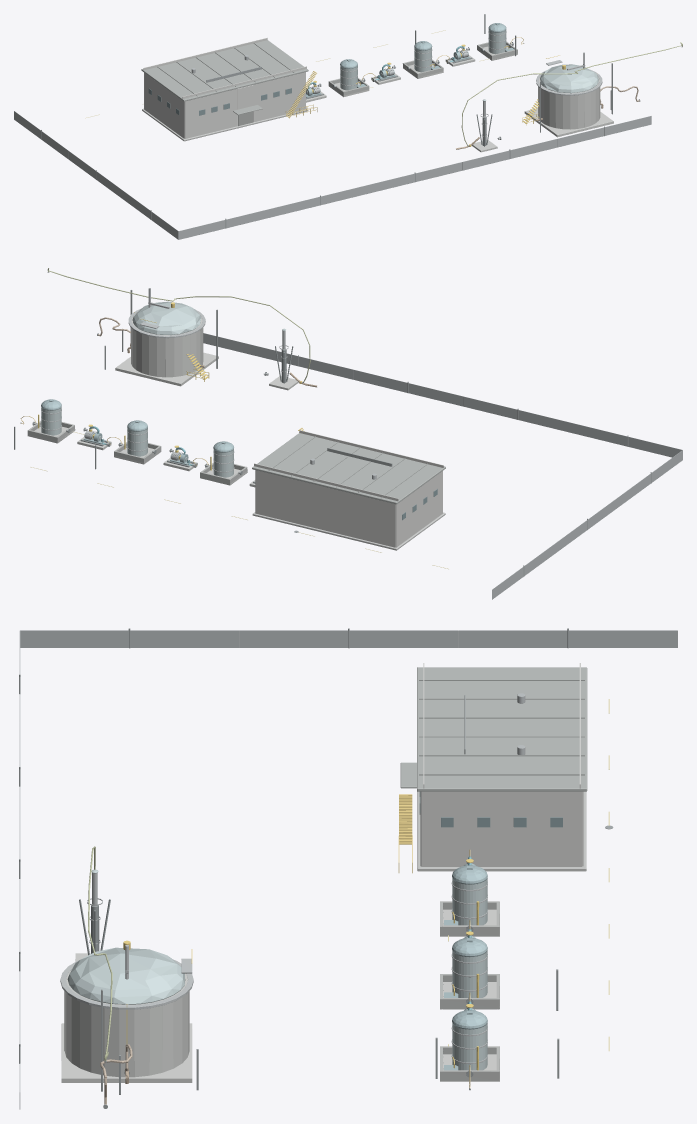
3 views of the same model, one above another, from view 1: azimuth 30°, elevation 25°; view 2: azimuth 150°, elevation 25°; view 3: azimuth 270°, elevation 25° (orthographic). The views are drawn at different scales.
Visible parts, largest first — view 1: render-batch-16, render-batch-8, render-batch-6, render-batch-15, render-batch-13, render-batch-10, render-batch-9, render-batch-4, render-batch-3, render-batch-2, render-batch-14, render-batch-12 (+1 smaller); view 2: render-batch-16, render-batch-8, render-batch-6, render-batch-15, render-batch-13, render-batch-9, render-batch-10, render-batch-4, render-batch-3, render-batch-14, render-batch-2, render-batch-12; view 3: render-batch-6, render-batch-8, render-batch-16, render-batch-15, render-batch-13, render-batch-9, render-batch-10, render-batch-4, render-batch-3, render-batch-14, render-batch-19, render-batch-2.
Boxes of the visible parts, <box> form: render-batch-16: <box>143,37,306,138</box>; render-batch-8: <box>14,55,651,239</box>; render-batch-6: <box>141,40,308,114</box>; render-batch-15: <box>306,46,613,152</box>; render-batch-13: <box>306,29,598,101</box>; render-batch-10: <box>312,31,602,139</box>; render-batch-9: <box>328,41,517,97</box>; render-batch-4: <box>306,23,514,97</box>; render-batch-3: <box>41,14,682,228</box>; render-batch-2: <box>306,42,539,146</box>; render-batch-14: <box>142,108,308,141</box>; render-batch-12: <box>461,42,682,145</box>; render-batch-16: <box>254,430,443,547</box>; render-batch-8: <box>203,333,682,599</box>; render-batch-6: <box>252,433,445,504</box>; render-batch-15: <box>27,313,298,487</box>; render-batch-13: <box>41,301,285,477</box>; render-batch-9: <box>27,421,247,485</box>; render-batch-10: <box>33,288,288,473</box>; render-batch-4: <box>41,399,233,465</box>; render-batch-3: <box>14,272,651,576</box>; render-batch-14: <box>252,512,445,550</box>; render-batch-2: <box>32,346,302,483</box>; render-batch-12: <box>47,268,310,382</box>; render-batch-6: <box>400,667,587,791</box>; render-batch-8: <box>19,630,677,1109</box>; render-batch-16: <box>420,663,583,866</box>; render-batch-15: <box>61,909,499,1082</box>; render-batch-13: <box>67,869,487,1070</box>; render-batch-9: <box>440,901,499,1081</box>; render-batch-10: <box>60,863,487,1070</box>; render-batch-4: <box>444,863,487,1070</box>; render-batch-3: <box>19,628,613,1108</box>; render-batch-14: <box>417,791,586,871</box>; render-batch-19: <box>398,794,412,873</box>; render-batch-2: <box>79,862,473,1077</box>.
Size of the model in its own units: 113 by 13.28 by 61.49.
